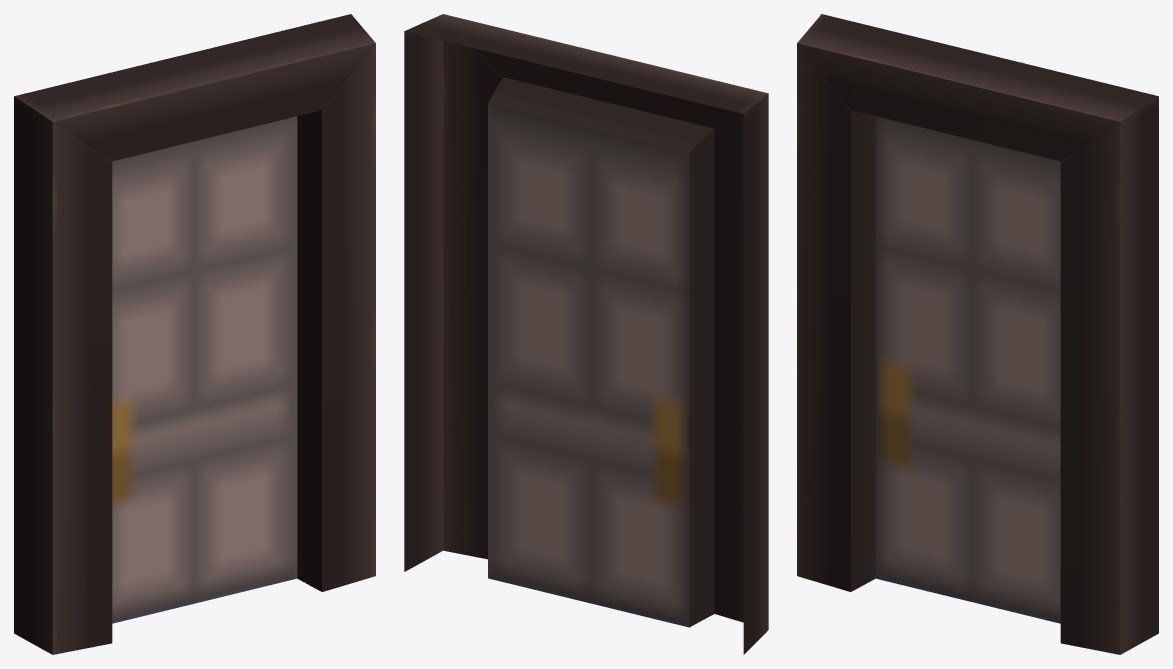
Rendered from door_v4b_003.fbx.
The picture shows the model from 3 angles, left to right: view 1: azimuth 30°, elevation 25°; view 2: azimuth 150°, elevation 25°; view 3: azimuth 330°, elevation 25°; orthographic projection.
Parts seen in each view (by area): view 1: door_v4b_003; view 2: door_v4b_003; view 3: door_v4b_003.
Part boxes in pixels (x1,y1,x2,y2): door_v4b_003: [14, 14, 375, 654]; door_v4b_003: [404, 14, 768, 654]; door_v4b_003: [797, 14, 1158, 654].
Size of the model in its own units: 118 by 179 by 20.9.
